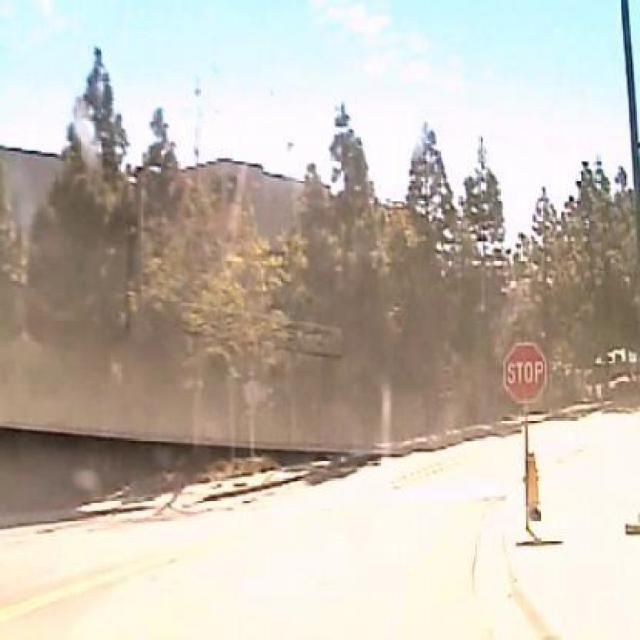Stop: (502, 339, 548, 407)
